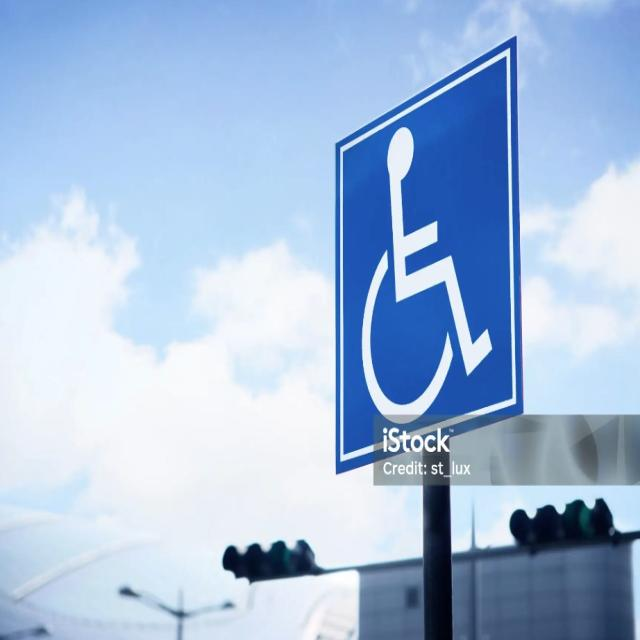symbol_of_access: (328, 27, 528, 480)
